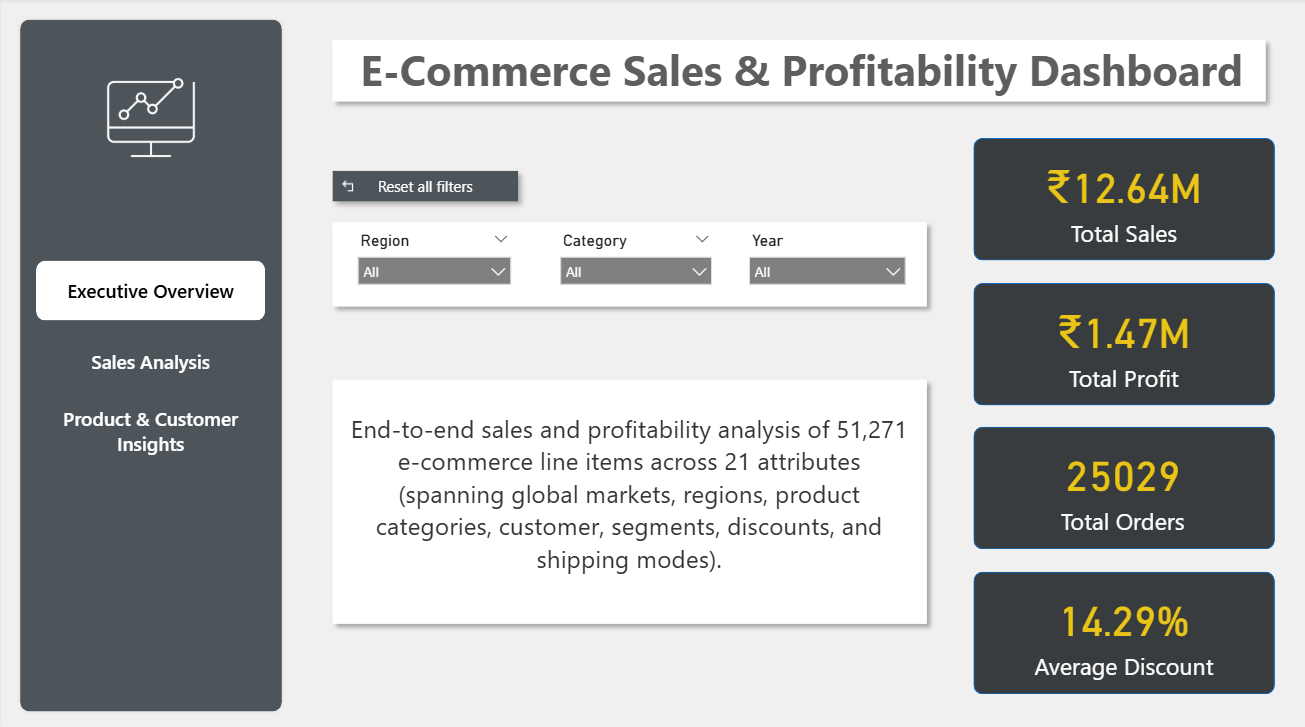

The page's visual inventory and layout, read from the dashboard file:
{"tool":"powerbi","page":{"name":"Executive Overview","canvas":[1280,720],"ordinal":0},"visuals":[{"type":"shape","box":[16,18.4,262.6,684.7],"z":0},{"type":"shape","box":[954.6,137.4,295.7,120.2],"z":1000},{"type":"card","fields":{"Values":["_Measures.Total Sales"]},"box":[954.6,137.4,295.7,120.2],"z":2000},{"type":"shape","box":[316.6,31.9,933.7,78.5],"z":3000},{"type":"actionButton","title":"E-Commerce Sales & Profitability Dashboard","box":[292,35.6,987.7,67.5],"z":4000},{"type":"shape","box":[954.6,279.3,295.7,120.2],"z":5000},{"type":"shape","box":[954.6,421.3,295.7,120.2],"z":6000},{"type":"shape","box":[954.6,563.2,295.7,120.2],"z":7000},{"type":"card","fields":{"Values":["_Measures.Total Profit"]},"box":[954.6,279.8,295.7,120.2],"z":8000},{"type":"card","fields":{"Values":["_Measures.Total Orders"]},"box":[953.4,420.9,295.7,120.2],"z":9000},{"type":"card","fields":{"Values":["_Measures.Average Discount"]},"box":[954.6,563.2,295.7,120.2],"z":10000},{"type":"shape","box":[316.6,365.6,601.2,257.7],"z":11000},{"type":"actionButton","title":"E-Commerce Sales & Profitability Dashboard","box":[330.1,357.1,573,257.7],"z":12000},{"type":"pageNavigator","box":[34.4,257.7,225.8,198.8],"z":13000},{"type":"shape","box":[316.6,210.8,601.2,100.6],"z":14000},{"type":"slicer","fields":{"Values":["cleaned_dataset.region"]},"box":[339.9,224.3,170.6,72.4],"z":15000},{"type":"slicer","fields":{"Values":["cleaned_dataset.category"]},"box":[538.7,224.3,169.3,72.4],"z":16000},{"type":"slicer","fields":{"Values":["cleaned_dataset.year"]},"box":[723.9,224.3,174.2,72.4],"z":17000},{"type":"image","box":[57.7,71.2,179.1,89.6],"z":18000},{"type":"actionButton","box":[316.6,160.7,200,47.9],"z":19000}]}

Visuals, with their boxes in screenshot pixels (x1, y1, x2, y2), scaled from the page's 1280x720 canvas onto the 1305x727 screenshot:
shape: l=16, t=19, r=284, b=710
shape: l=973, t=139, r=1275, b=260
card - _Measures.Total Sales: l=973, t=139, r=1275, b=260
shape: l=323, t=32, r=1275, b=111
"E-Commerce Sales & Profitability Dashboard" actionButton: l=298, t=36, r=1304, b=104
shape: l=973, t=282, r=1275, b=403
shape: l=973, t=425, r=1275, b=547
shape: l=973, t=569, r=1275, b=690
card - _Measures.Total Profit: l=973, t=283, r=1275, b=404
card - _Measures.Total Orders: l=972, t=425, r=1273, b=546
card - _Measures.Average Discount: l=973, t=569, r=1275, b=690
shape: l=323, t=369, r=936, b=629
"E-Commerce Sales & Profitability Dashboard" actionButton: l=337, t=361, r=921, b=621
pageNavigator: l=35, t=260, r=265, b=461
shape: l=323, t=213, r=936, b=314
slicer - cleaned_dataset.region: l=347, t=226, r=520, b=300
slicer - cleaned_dataset.category: l=549, t=226, r=722, b=300
slicer - cleaned_dataset.year: l=738, t=226, r=916, b=300
image: l=59, t=72, r=241, b=162
actionButton: l=323, t=162, r=527, b=211
